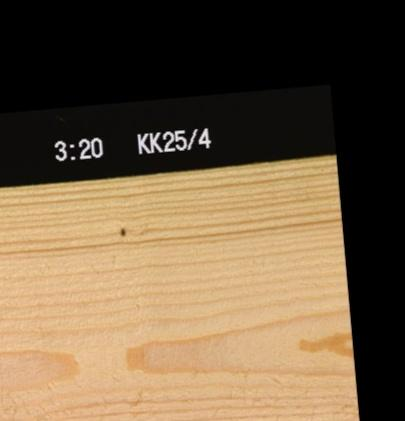small_knot: (116, 223, 125, 236)
